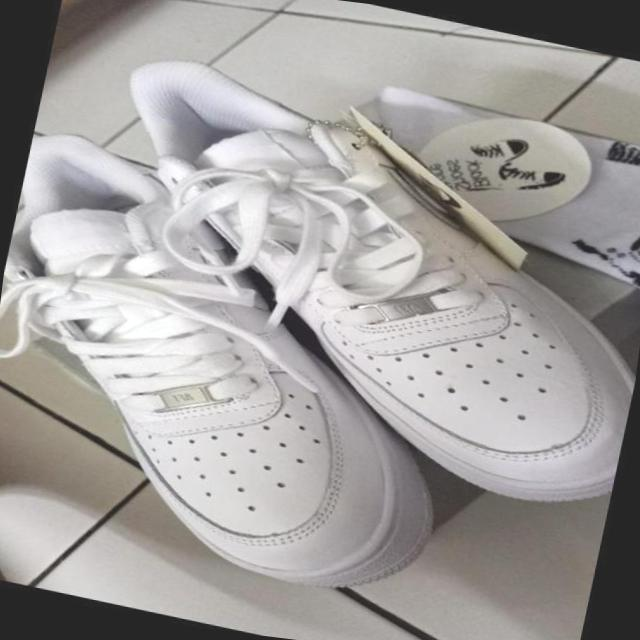nike_fake_airforce: (15, 34, 640, 522), (0, 119, 503, 615)
